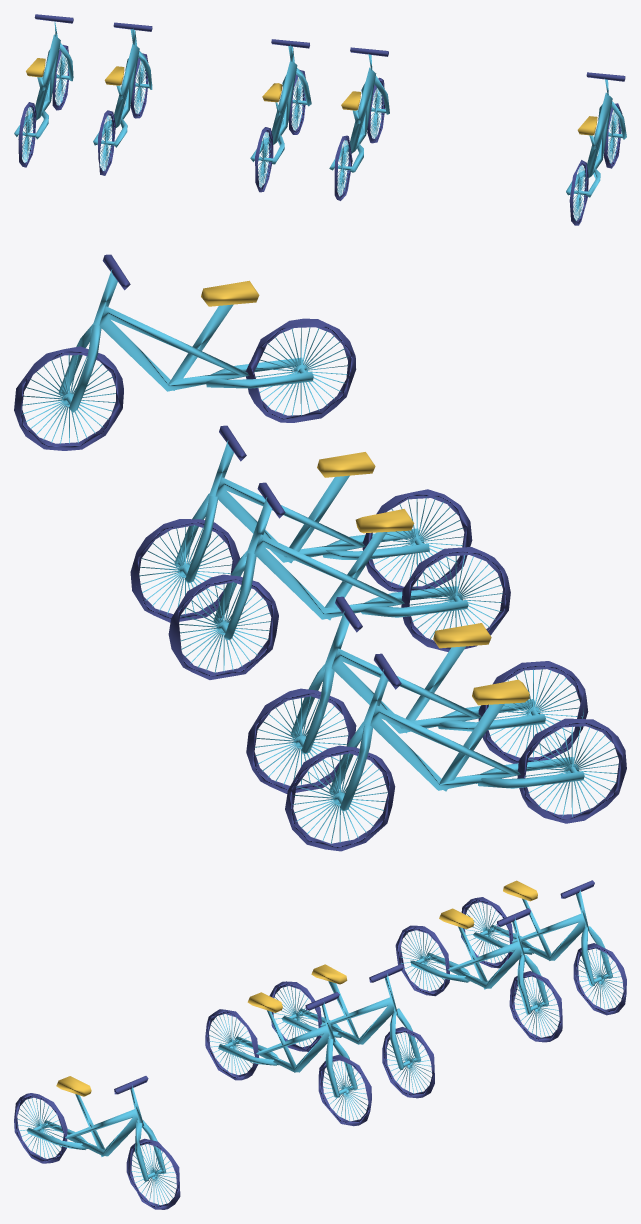
File: 074_自転車005.glb
The picture shows the model from 3 angles, top to bottom: view 1: azimuth 30°, elevation 25°; view 2: azimuth 150°, elevation 25°; view 3: azimuth 270°, elevation 25°; orthographic projection. The views are drawn at different scales.
Parts seen in each view (by area): view 1: 円柱068, 円柱068_1, 円柱068_2; view 2: 円柱068, 円柱068_1, 円柱068_2; view 3: 円柱068, 円柱068_1, 円柱068_2.
Boxes of the visible parts, bbox=[...] form: 円柱068: bbox=[14, 21, 626, 220]; 円柱068_1: bbox=[18, 14, 625, 225]; 円柱068_2: bbox=[26, 58, 597, 135]; 円柱068: bbox=[22, 269, 618, 843]; 円柱068_1: bbox=[14, 254, 626, 851]; 円柱068_2: bbox=[201, 280, 529, 705]; 円柱068: bbox=[18, 889, 623, 1205]; 円柱068_1: bbox=[14, 880, 626, 1209]; 円柱068_2: bbox=[56, 880, 537, 1096].
Size of the model in its own units: 6.58 by 1.36 by 6.45.
